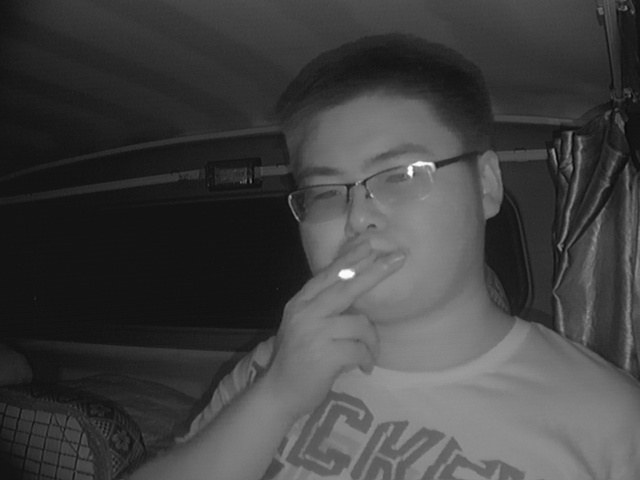hand: (286, 243, 413, 380)
